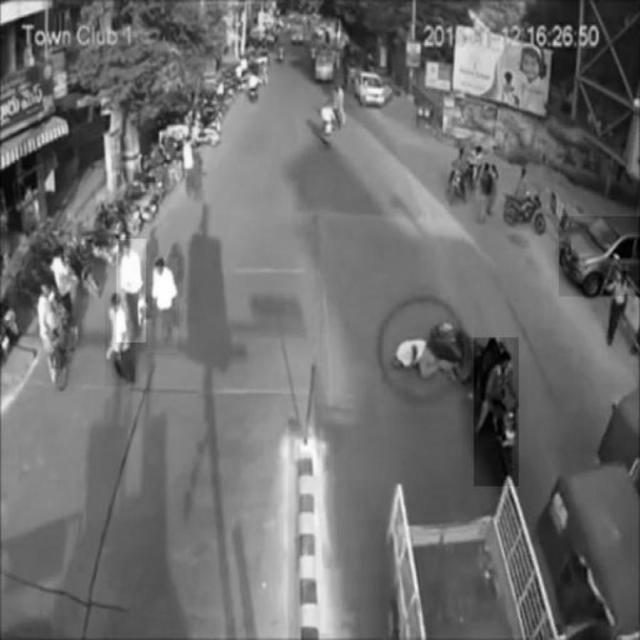person: (117, 240, 147, 343), (148, 258, 178, 352), (105, 293, 135, 386)
vehicle: (474, 337, 519, 485), (559, 216, 640, 296)
